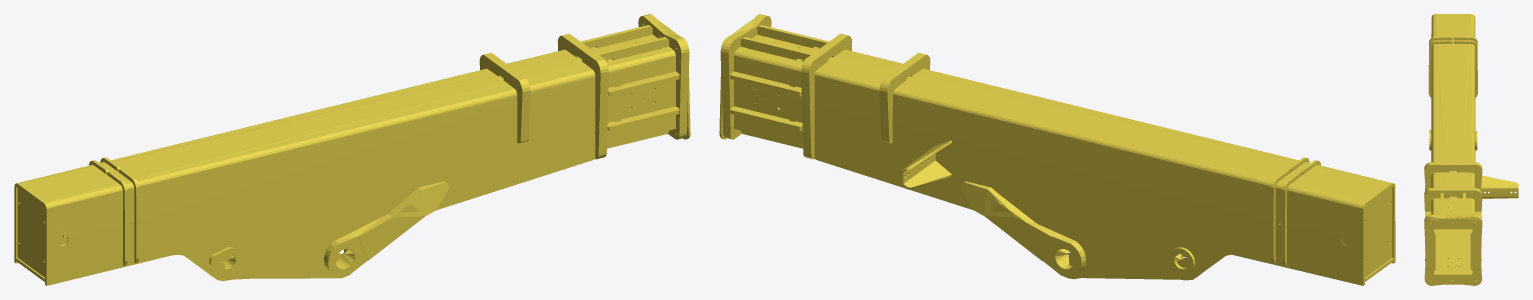
File: DIPPER.dae
3 views of the same model, side by side, from view 1: azimuth 30°, elevation 25°; view 2: azimuth 150°, elevation 25°; view 3: azimuth 270°, elevation 25° (orthographic). The views are drawn at different scales.
Parts seen in each view (by area): view 1: M545_telescope1; view 2: M545_telescope1; view 3: M545_telescope1.
Part boxes in pixels (left/top/right/bottom): M545_telescope1: left=14, top=14, right=690, bottom=285; M545_telescope1: left=719, top=14, right=1395, bottom=285; M545_telescope1: left=1424, top=14, right=1518, bottom=285.
Bounding box in the file's own units: 2.7 × 0.5099 × 0.6323.
